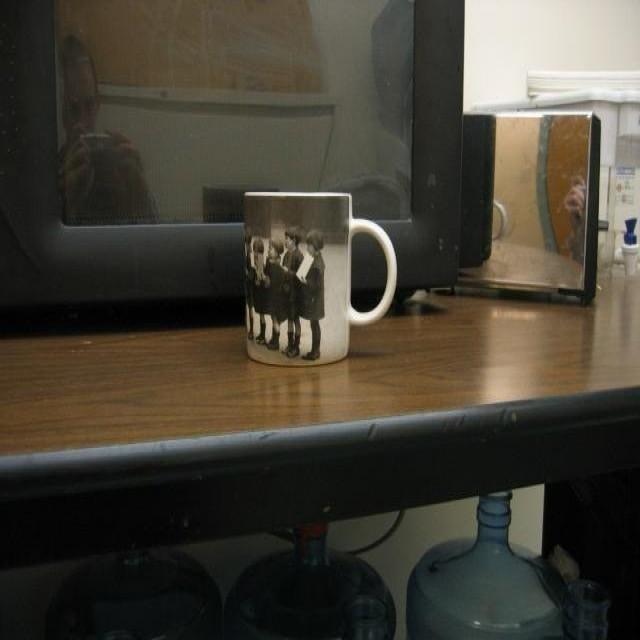cup-handle: (242, 185, 397, 368)
